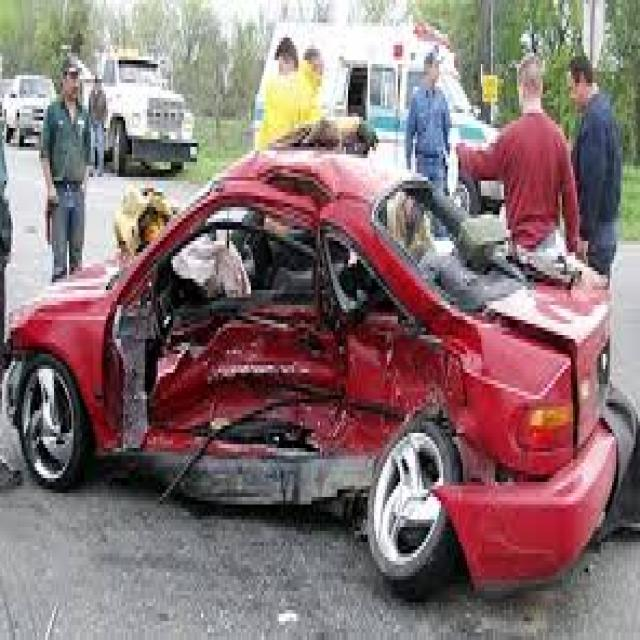severe: (80, 222, 438, 489)
